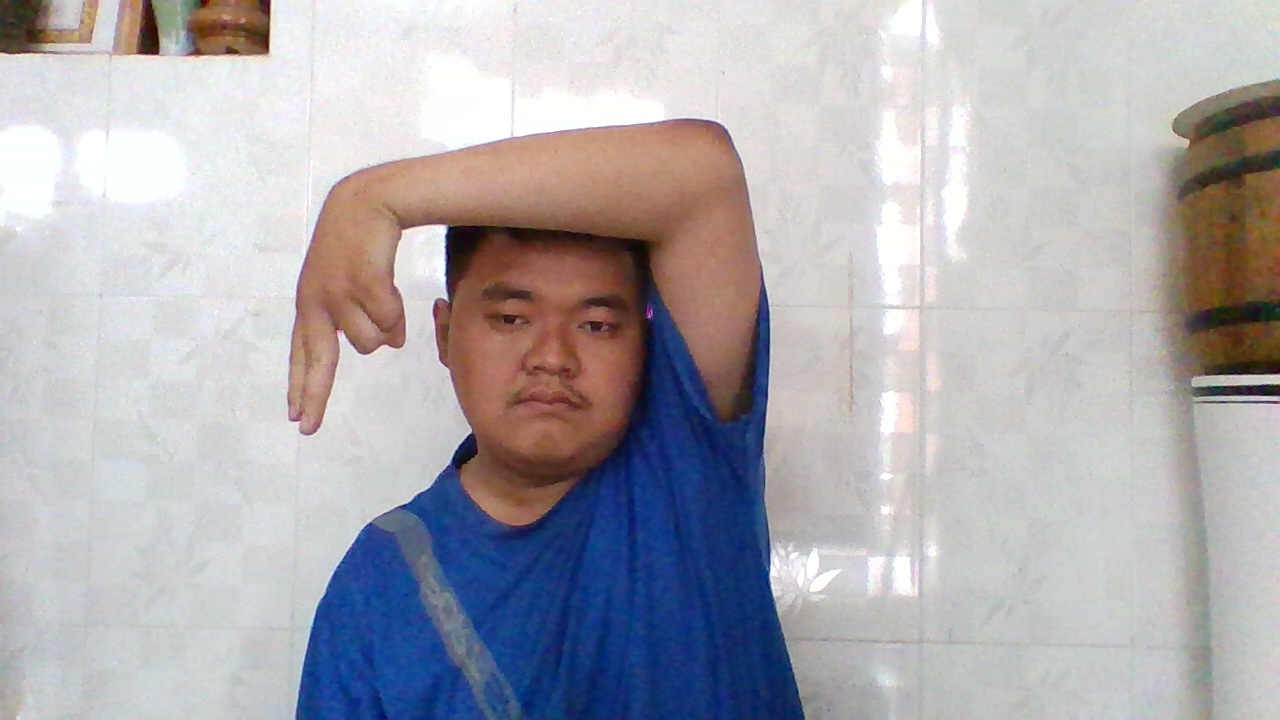N: (278, 176, 414, 444)
